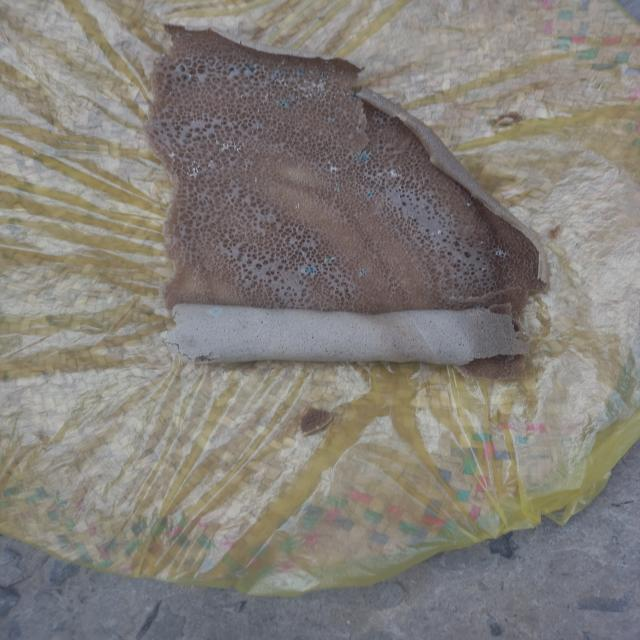injera_mold: (221, 143, 245, 152), (354, 152, 371, 162), (304, 82, 325, 90), (493, 249, 508, 259), (272, 71, 283, 83), (167, 152, 180, 162), (323, 258, 339, 266), (306, 266, 316, 278), (184, 171, 201, 178), (245, 63, 255, 74), (279, 100, 292, 108), (190, 160, 200, 169), (391, 168, 398, 180), (320, 71, 329, 79), (348, 92, 357, 100), (330, 165, 339, 173), (358, 270, 367, 278), (366, 191, 374, 199), (302, 92, 312, 98), (386, 114, 396, 120), (333, 185, 341, 192), (370, 93, 378, 100), (209, 159, 214, 170), (363, 127, 369, 135), (209, 310, 221, 314), (318, 91, 327, 96), (265, 92, 276, 96), (292, 87, 303, 91), (228, 66, 235, 72), (278, 59, 286, 64), (376, 172, 386, 176), (295, 203, 300, 210), (178, 64, 182, 72), (182, 75, 188, 80), (253, 178, 260, 182), (466, 202, 471, 207), (176, 33, 180, 39), (438, 229, 442, 235), (215, 138, 218, 146), (299, 70, 302, 76), (328, 118, 334, 121), (482, 268, 486, 272), (256, 110, 262, 112), (482, 242, 483, 244)
